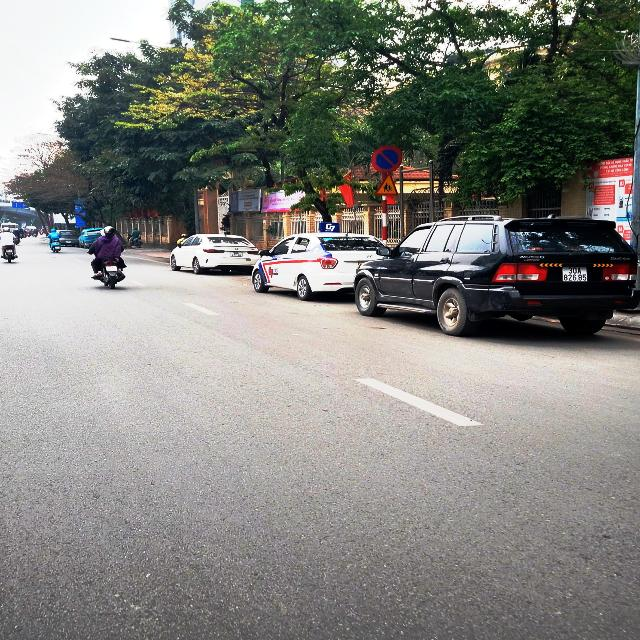license_plate: (562, 267, 588, 282), (231, 252, 243, 258), (107, 267, 119, 272)
